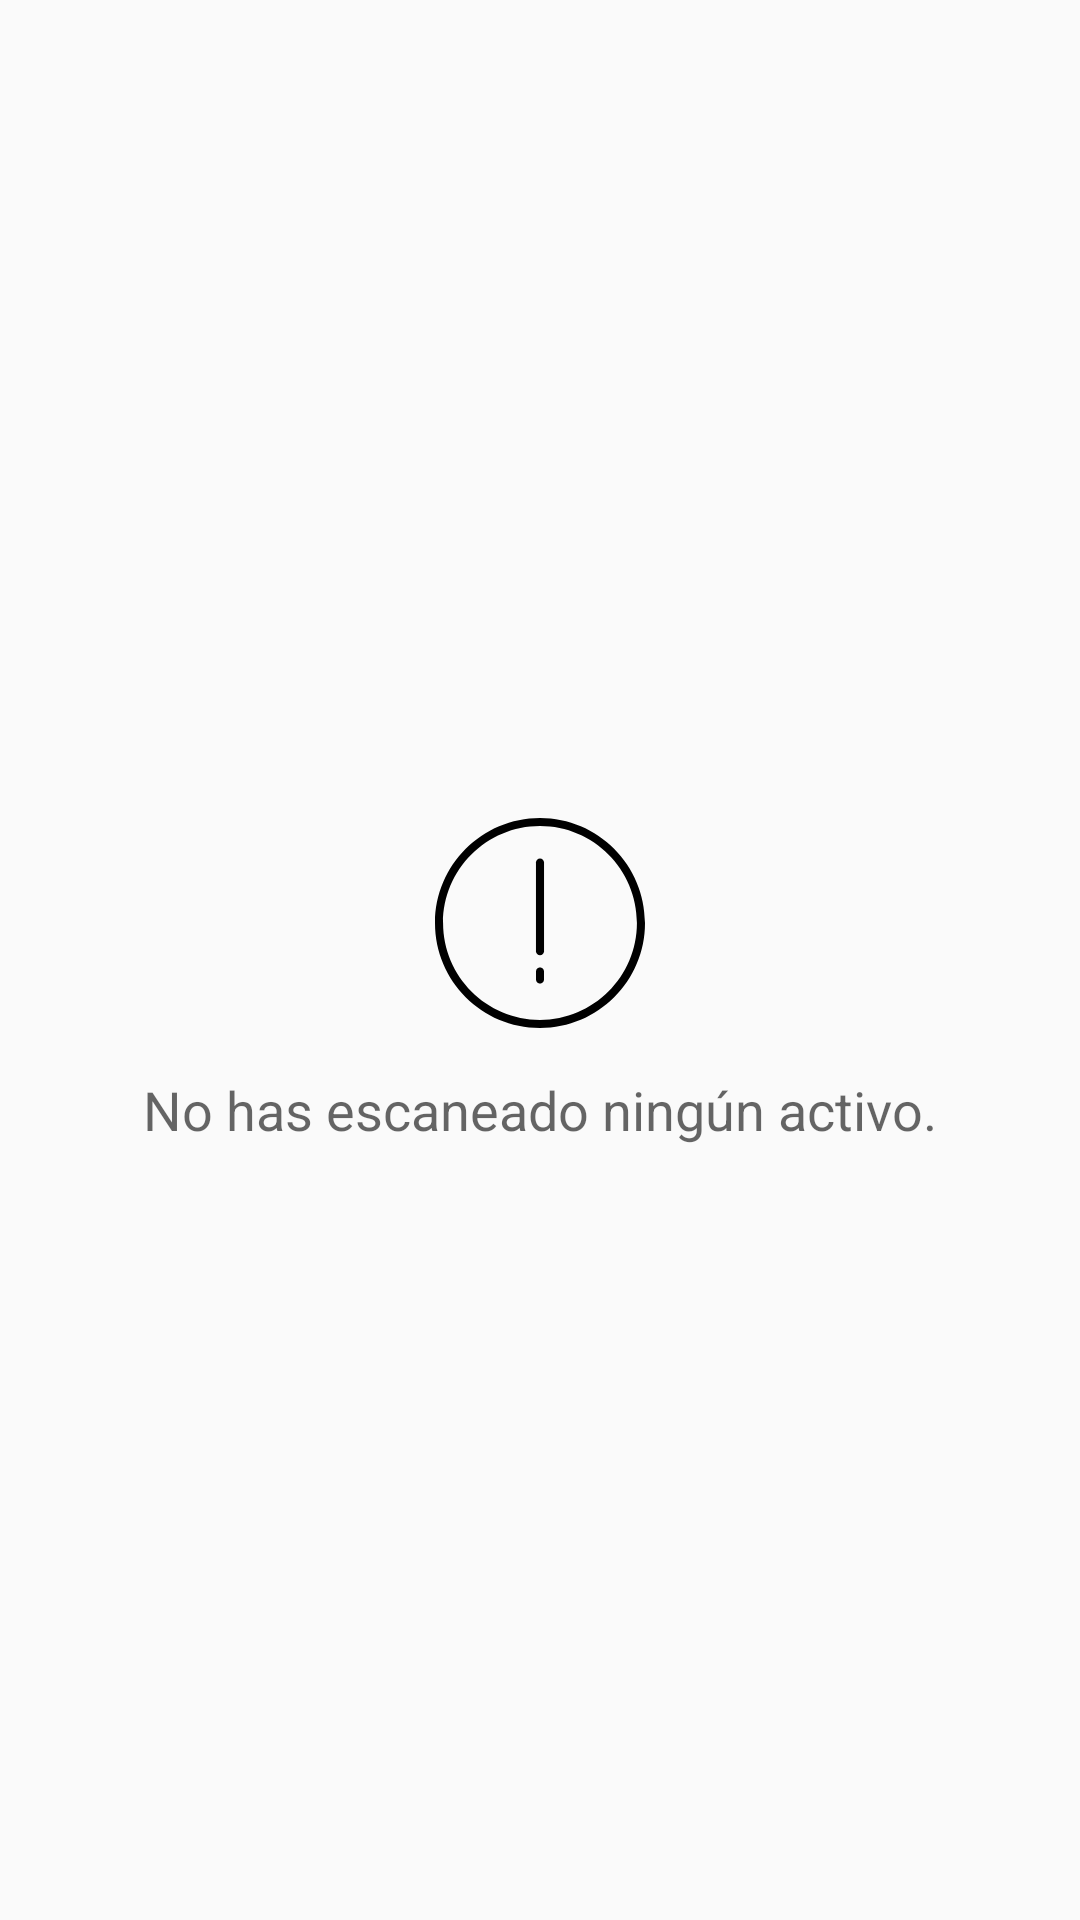

Icon click points for this 1080px×1920px phone screenshot, format point (x, y):
advertencia: point (540, 923)
